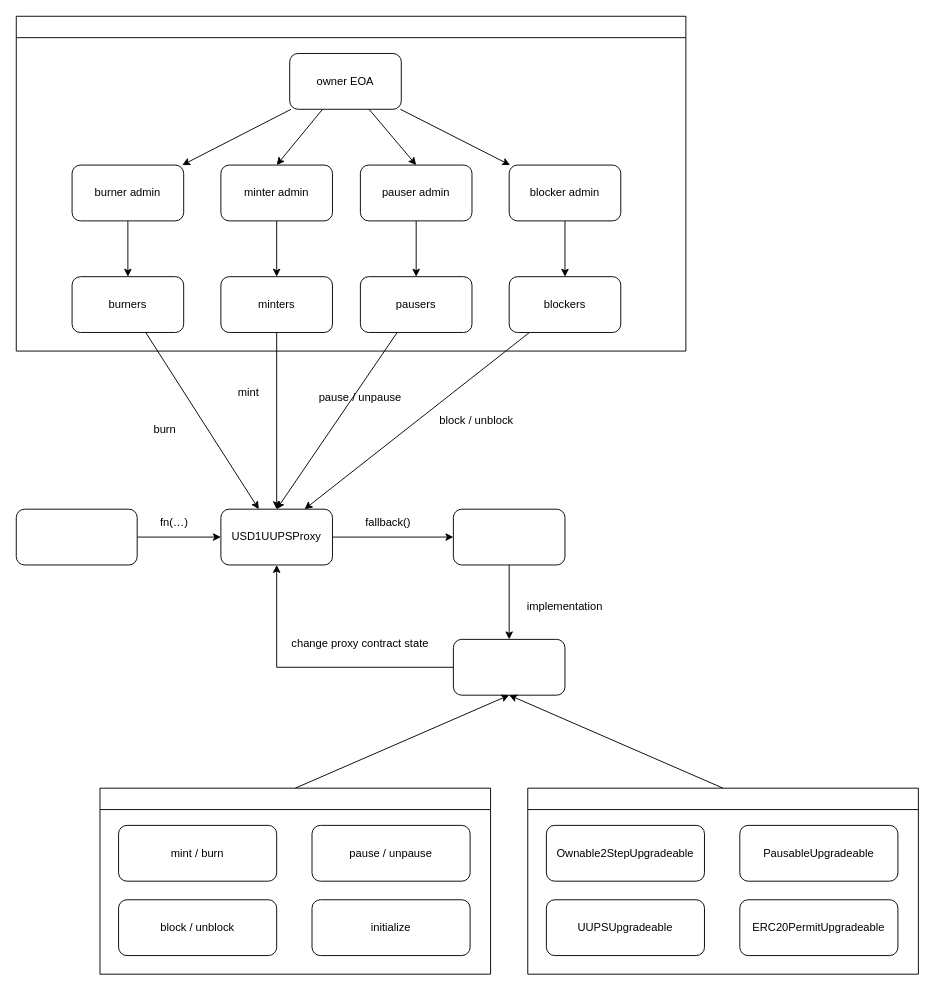
Some shapes in this 935 by 990 pixel diagram are drawn without their labels. Each missing label, with the box of its shape:
Access control: (15, 15, 686, 351)
delegate: (452, 508, 565, 565)
main functions: (99, 787, 491, 974)
openzeppelin dependencies: (527, 787, 918, 974)
USD1 Contract: (452, 638, 565, 695)
user / contract call: (15, 508, 137, 565)
